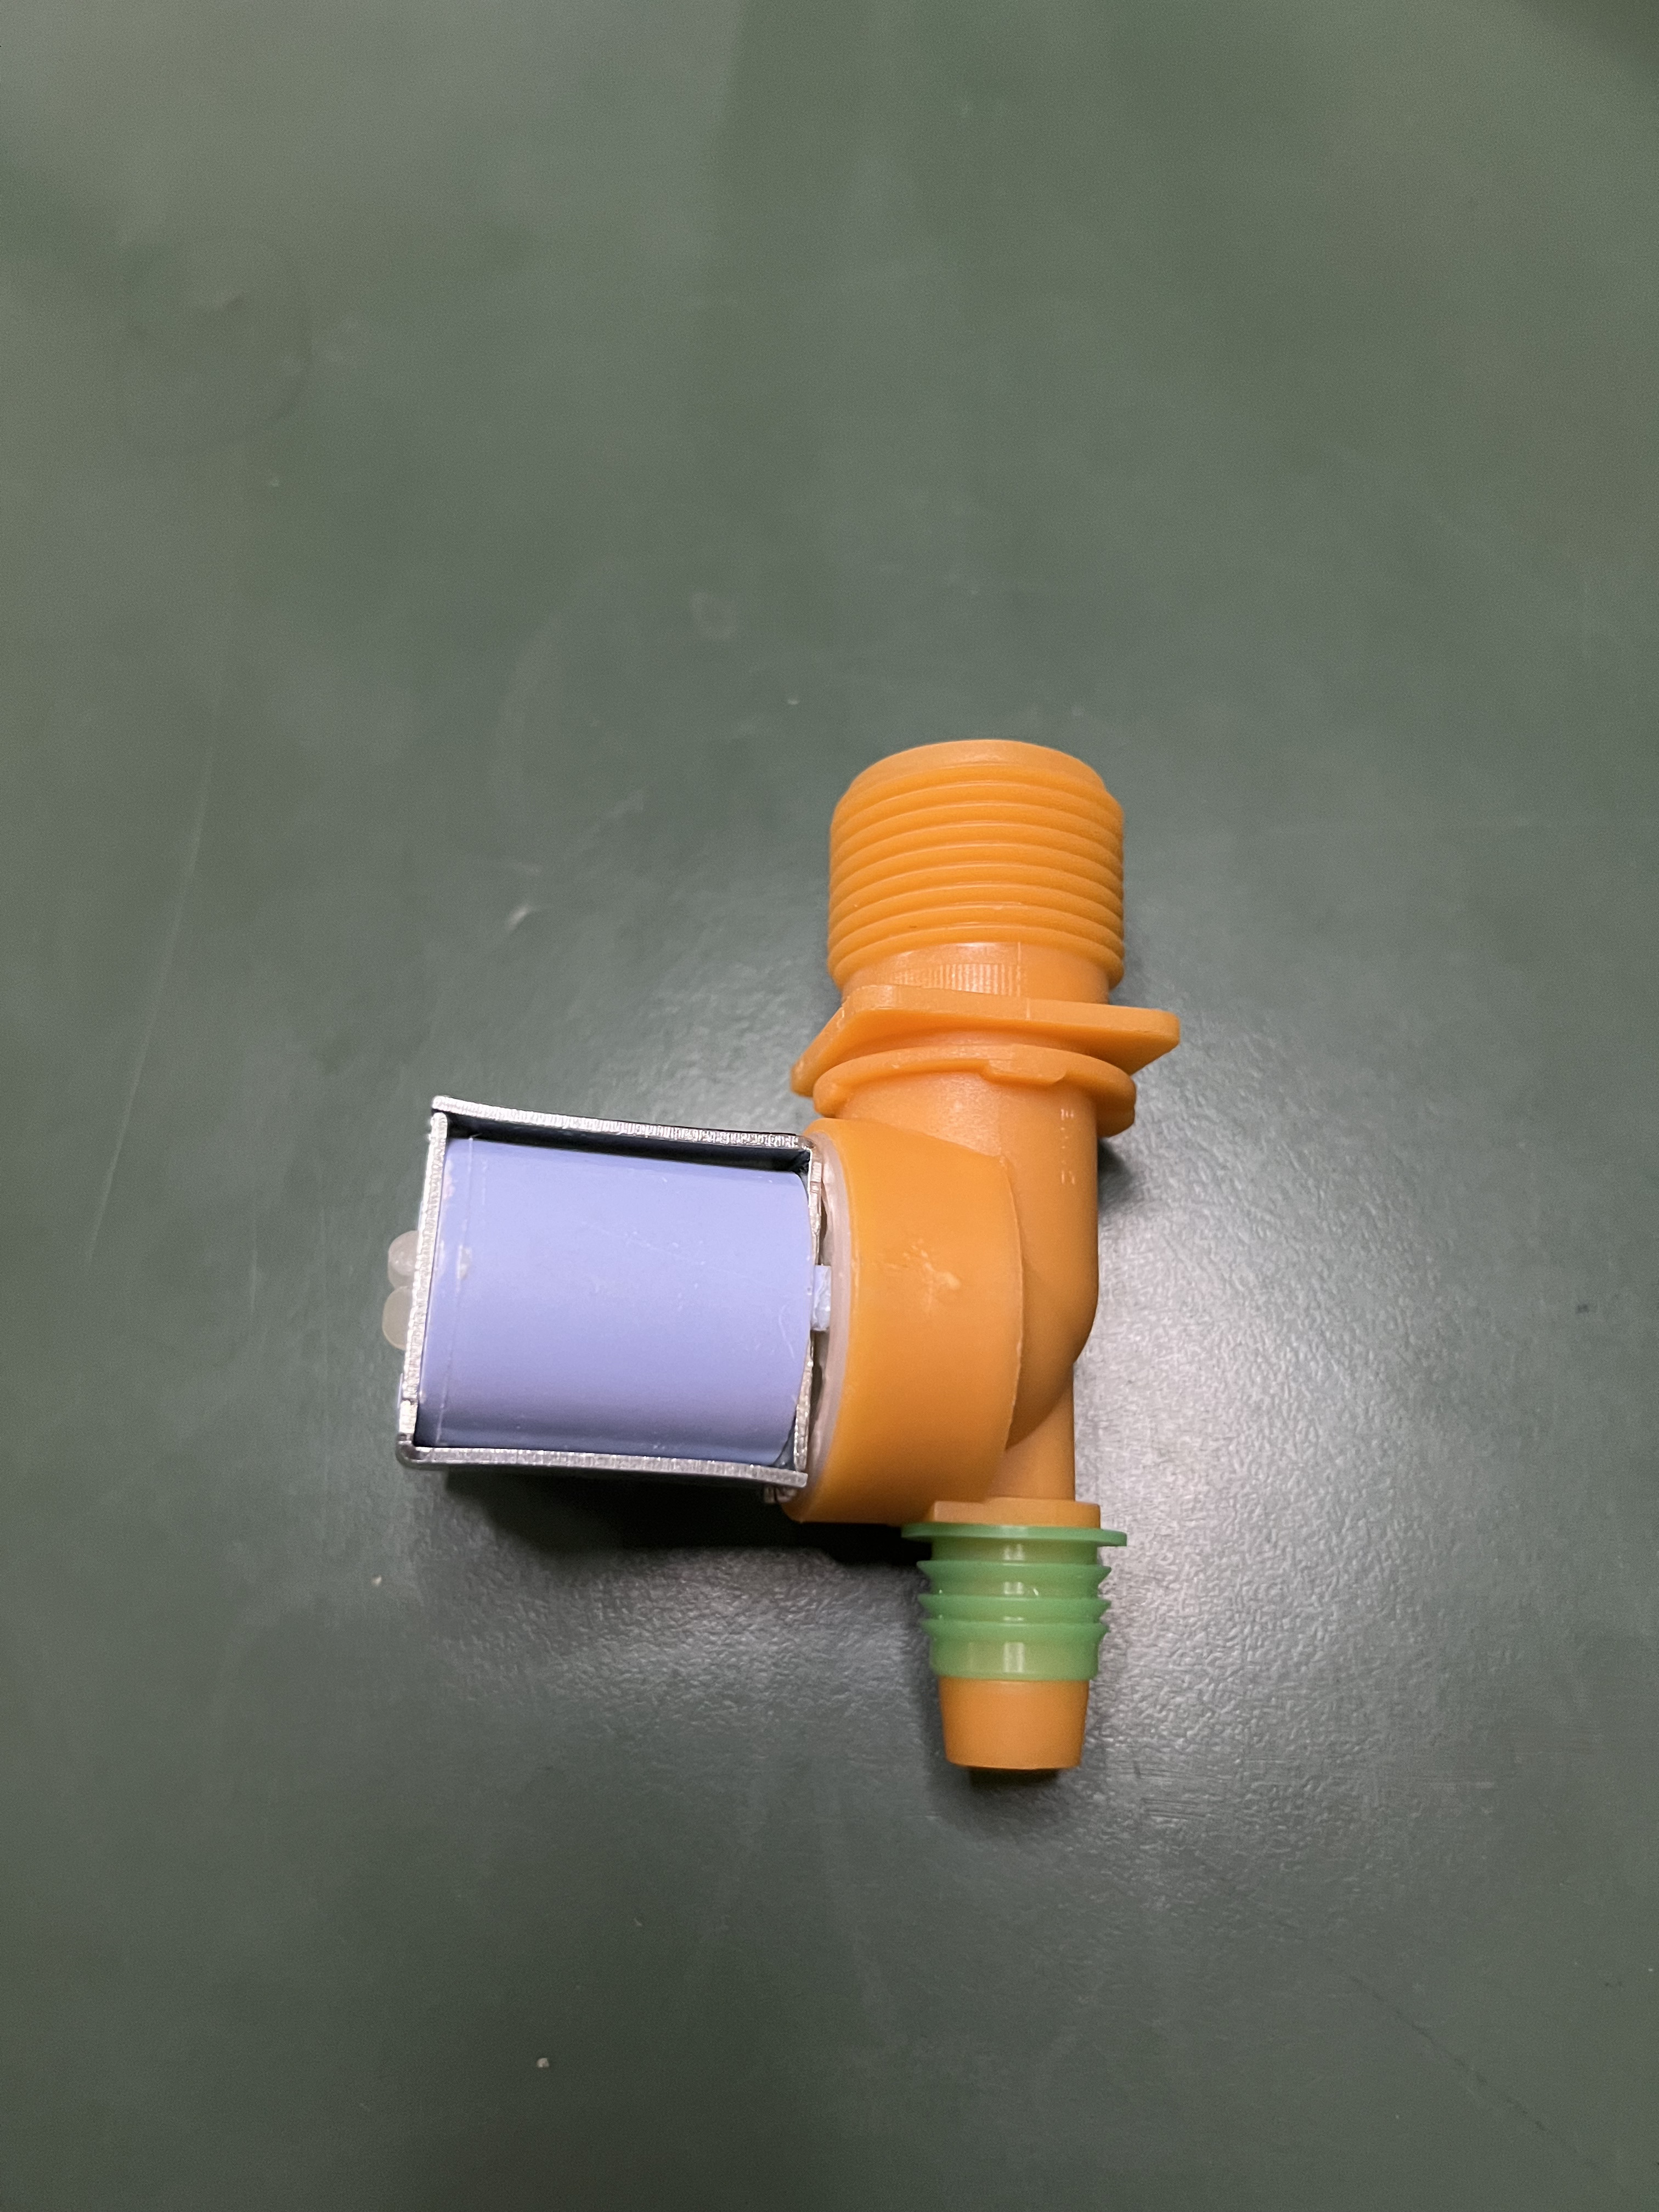ss_inlet_valves: (345, 735, 1204, 1848)
